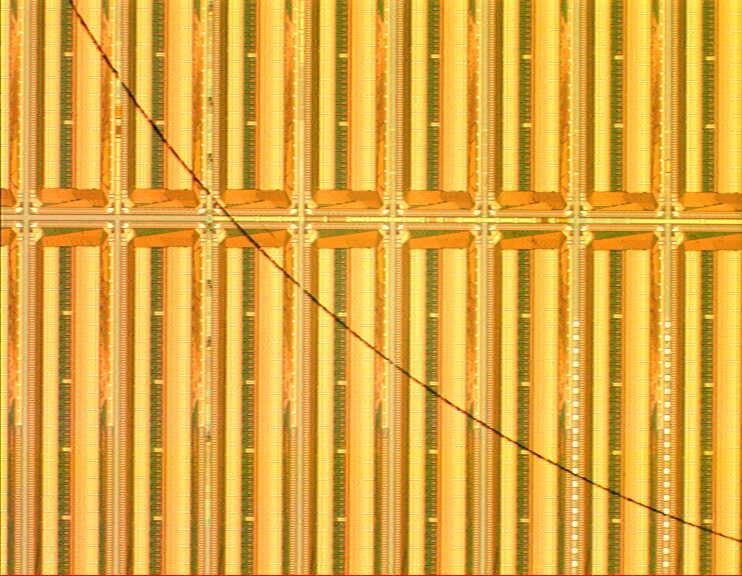SCRATCH: (63, 1, 742, 552)
